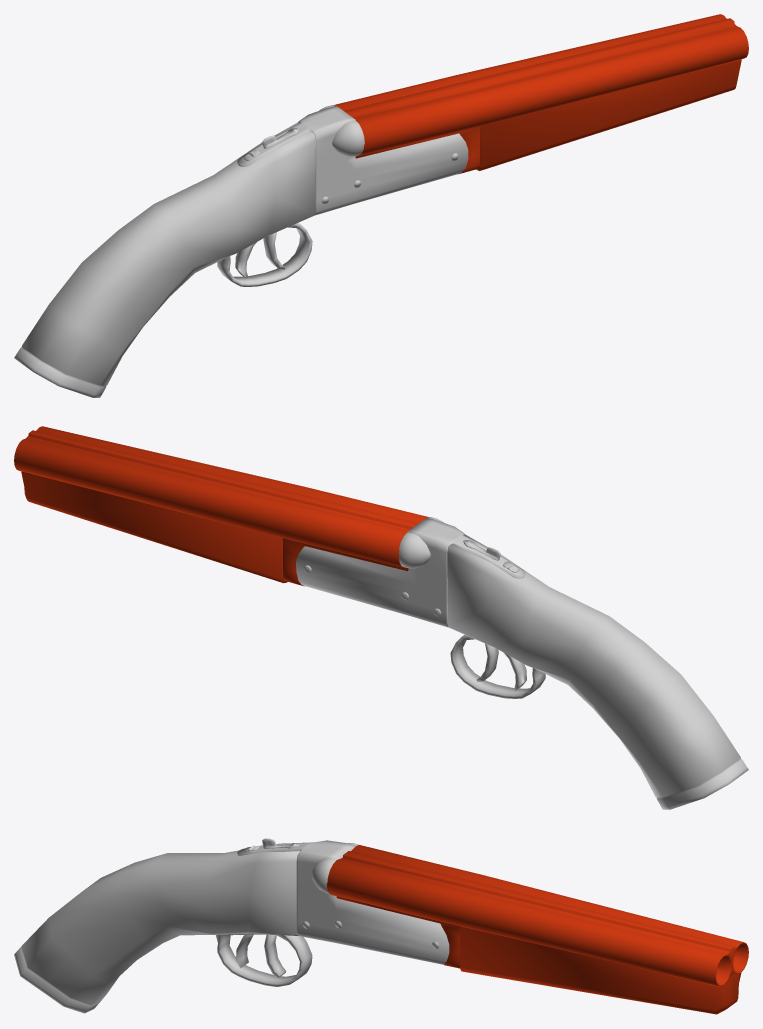
File: doubleBarrel.fbx
3 renders of one model, top to bottom at view 1: azimuth 30°, elevation 25°; view 2: azimuth 150°, elevation 25°; view 3: azimuth 330°, elevation 25°, orthographic.
Parts seen in each view (by area): view 1: Circle.004_Circle.001, Cylinder, Cylinder.007_Cylinder.008; view 2: Circle.004_Circle.001, Cylinder, Cylinder.007_Cylinder.008; view 3: Circle.004_Circle.001, Cylinder, Cylinder.007_Cylinder.008.
Boxes of the visible parts, x1,y1,x2,y2 form: Circle.004_Circle.001: [14, 105, 468, 397]; Cylinder: [334, 14, 748, 174]; Cylinder.007_Cylinder.008: [235, 232, 285, 278]; Circle.004_Circle.001: [296, 517, 748, 809]; Cylinder: [14, 426, 428, 586]; Cylinder.007_Cylinder.008: [477, 643, 526, 691]; Circle.004_Circle.001: [14, 838, 449, 1013]; Cylinder: [326, 845, 748, 1014]; Cylinder.007_Cylinder.008: [236, 934, 285, 977].
Bounding box in the file's own units: 4.53 × 1.33 × 0.425.
